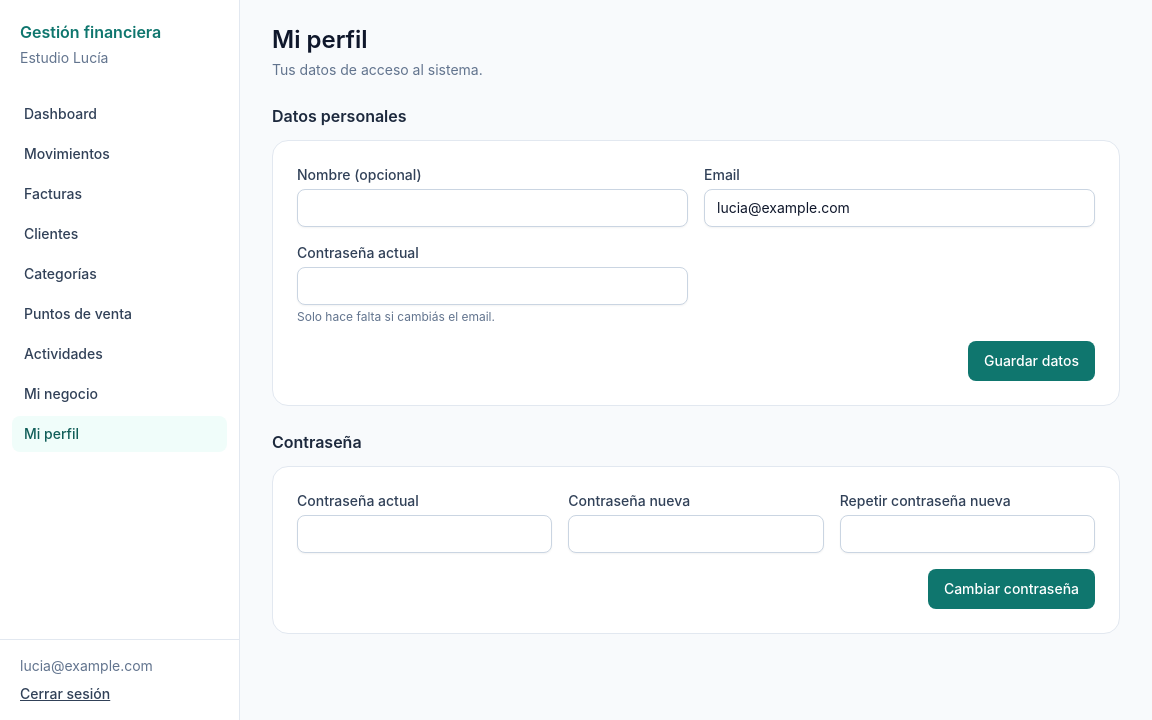
Test: profile › updates the name without asking for the password
Type "Lucía Pérez" into the field labelled "Nombre (opcional)".
click(492, 208); type("Lucía Pérez")  # box [297,189,688,227]
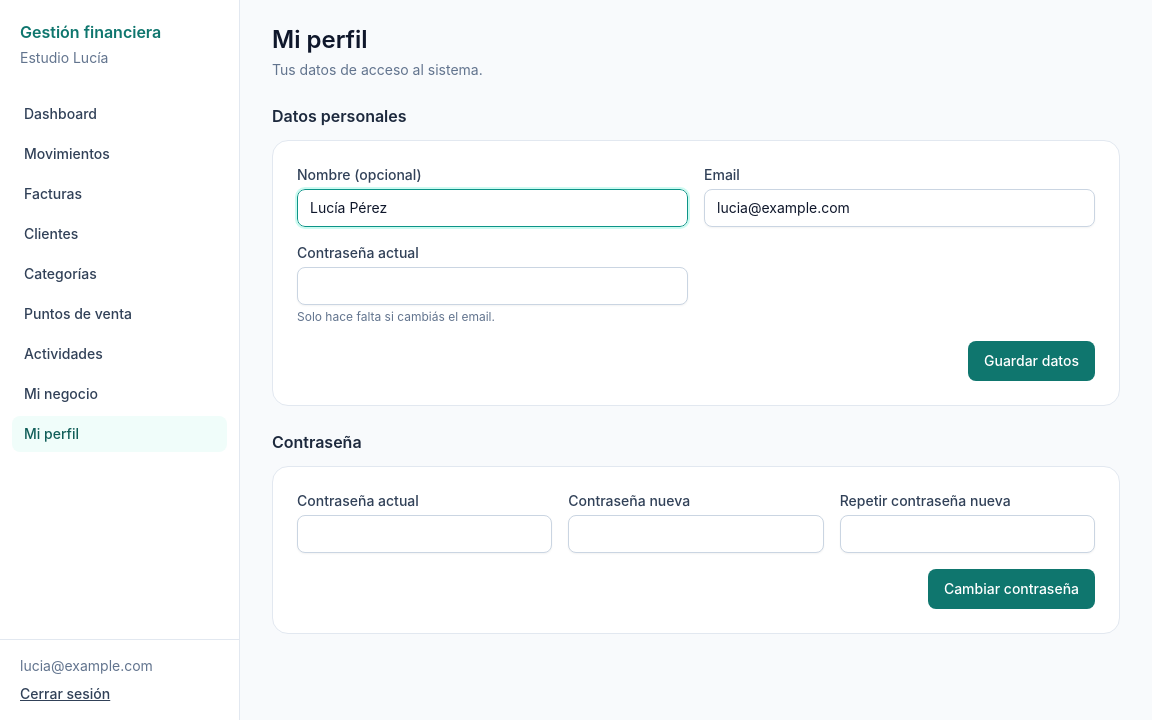
Click the button "Guardar datos".
click(1032, 361)  # box [968,341,1095,381]
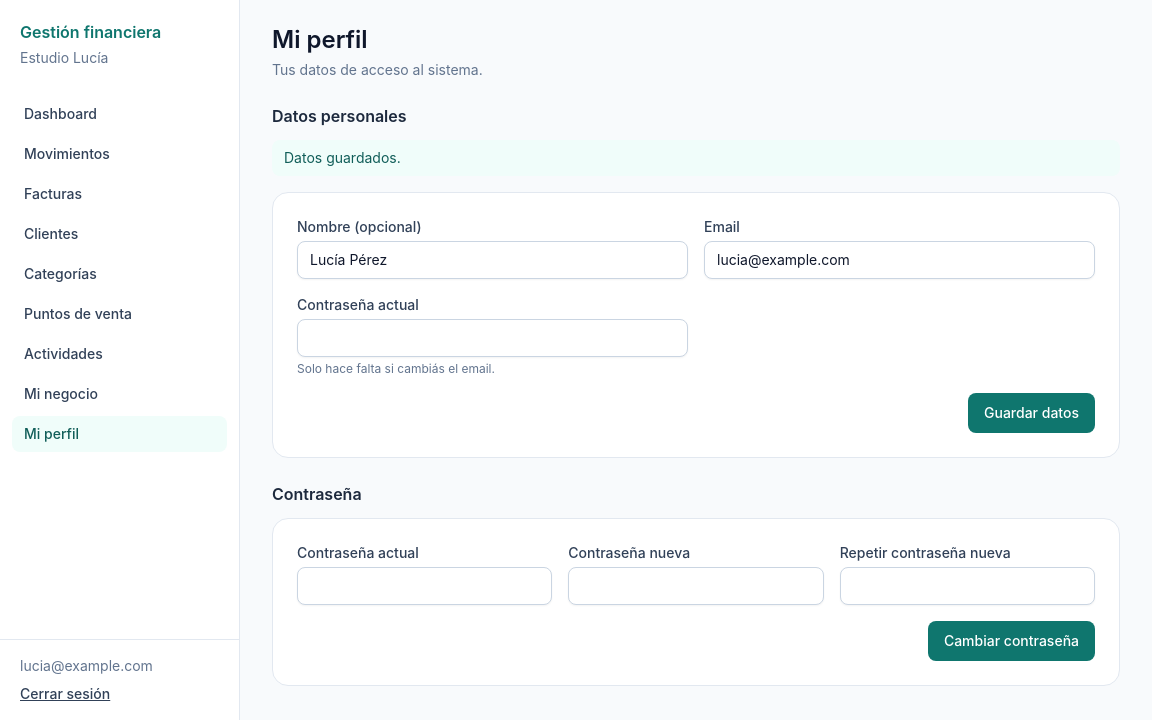
Result: the text "Datos guardados." is shown at [272,140,1120,176]
